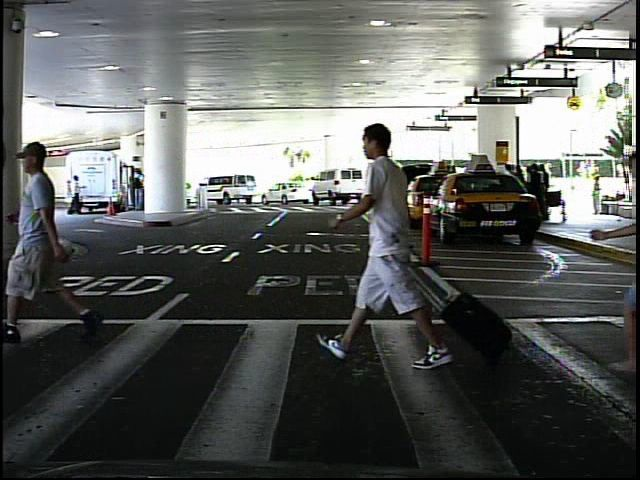person: (350, 111, 448, 377), (588, 172, 607, 218), (68, 172, 86, 217)
